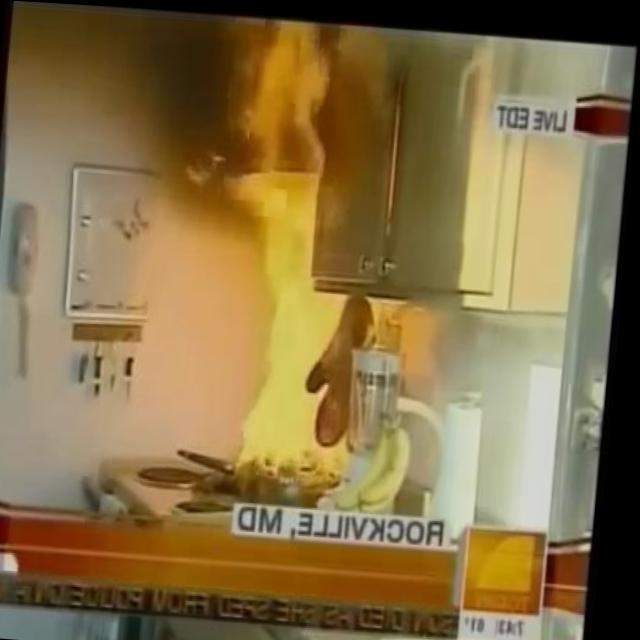fire: (234, 179, 385, 471)
